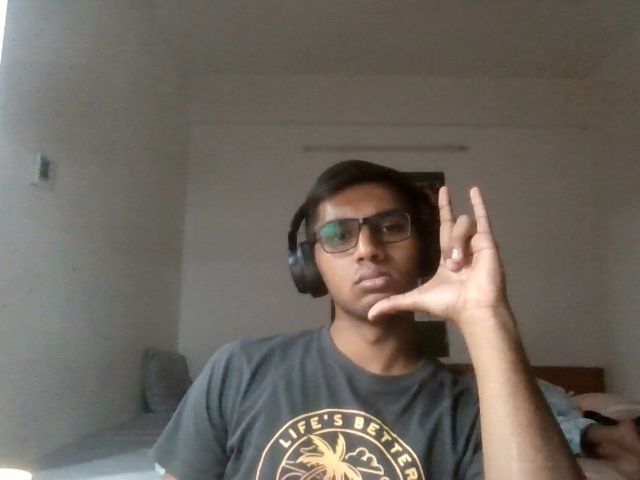iloveyou: (366, 179, 539, 338)
